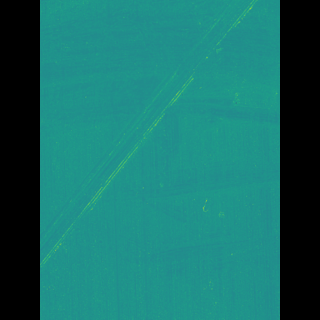Loch: (69, 0, 232, 271), (69, 0, 251, 133), (155, 224, 250, 281), (113, 160, 252, 193)
